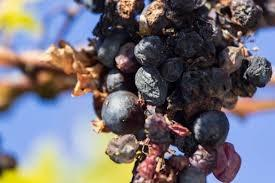Grape Overripe: (48, 0, 274, 182)
